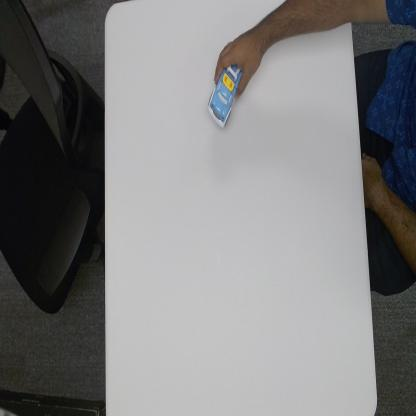Arm: (265, 0, 415, 50)
Car: (207, 62, 243, 130)
Hand: (213, 25, 266, 97)
